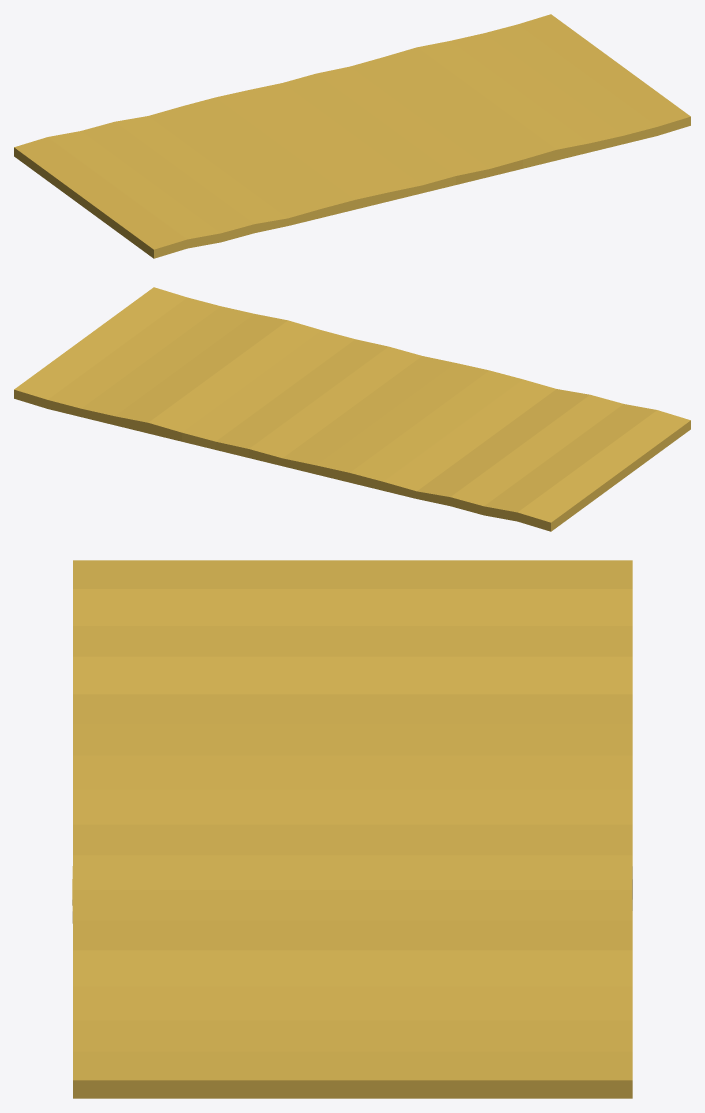
The model's file is lavash.fbx.
3 views of the same model, one above another, from view 1: azimuth 30°, elevation 25°; view 2: azimuth 150°, elevation 25°; view 3: azimuth 270°, elevation 25° (orthographic). The views are drawn at different scales.
Visible parts, largest first — view 1: Cylinder.001; view 2: Cylinder.001; view 3: Cylinder.001.
Part boxes in pixels (x1=…): Cylinder.001: x1=14, y1=14, x2=690, y2=258; Cylinder.001: x1=14, y1=287, x2=690, y2=531; Cylinder.001: x1=72, y1=560, x2=632, y2=1098.
Size of the model in its own units: 490 by 9.76 by 222.
